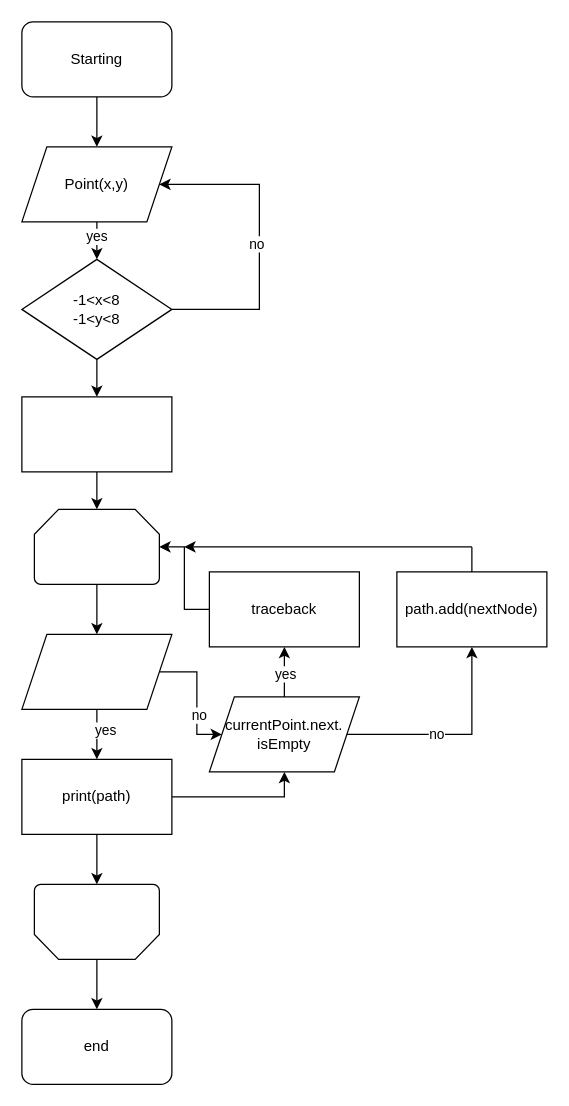
This 569x1106 diagram has some shape labels left out. The shapes that lost their labels are listed below. From the top down, each one's centre as x and y in pixels, then its label:
the point at 96,434: path.add(Point(x,y))
the point at 96,546: !path.isEmpty()
the point at 96,671: path.getSize()==64
the point at 96,921: end circulation
